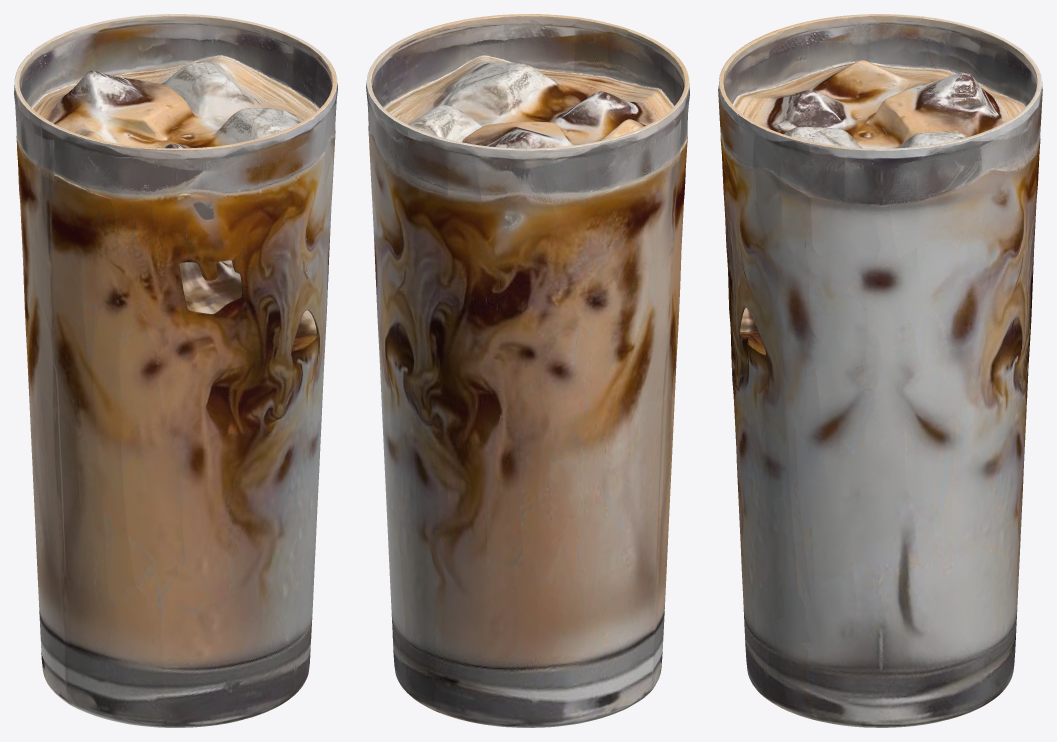
Rendered from wet-cobble.glb.
3 renders of one model, left to right at view 1: azimuth 30°, elevation 25°; view 2: azimuth 150°, elevation 25°; view 3: azimuth 270°, elevation 25°, orthographic.
Visible parts, largest first — view 1: Mesh_0; view 2: Mesh_0; view 3: Mesh_0.
Boxes of the visible parts, x1,y1,x2,y2 form: Mesh_0: (14,14,337,727); Mesh_0: (366,14,689,727); Mesh_0: (718,14,1042,727).
Size of the model in its own units: 0.9413 by 1.9 by 0.9409.
Materials: 1 (1 with a texture image).
